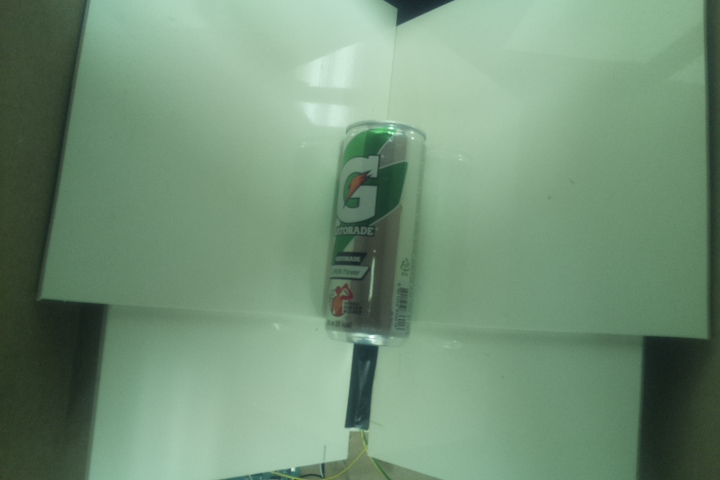can: (320, 116, 427, 354)
